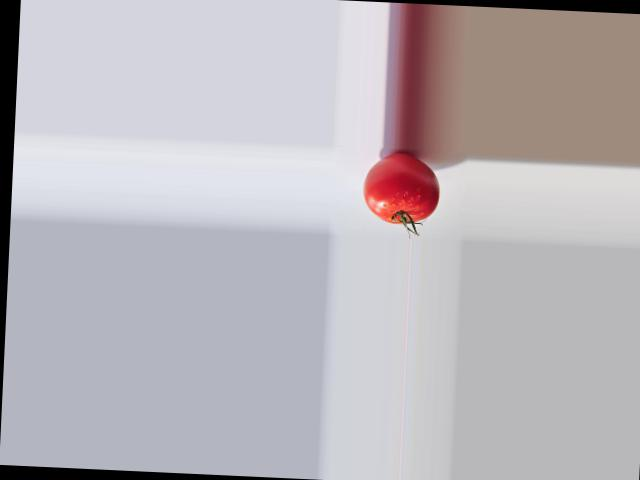tomato: (361, 151, 440, 224)
